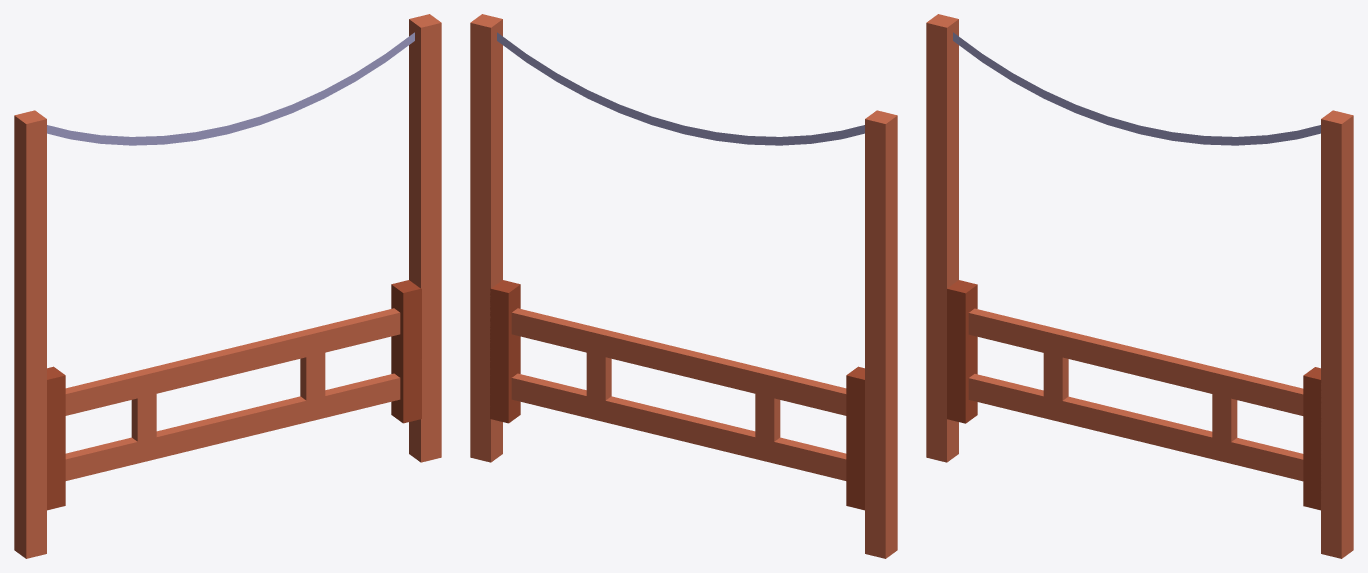
Rendered from gate.fbx.
3 renders of one model, left to right at view 1: azimuth 30°, elevation 25°; view 2: azimuth 150°, elevation 25°; view 3: azimuth 330°, elevation 25°, orthographic.
Parts seen in each view (by area): view 1: mergedBlocks; view 2: mergedBlocks; view 3: mergedBlocks.
Boxes of the visible parts, x1=… form: mergedBlocks: x1=14, y1=14, x2=441, y2=558; mergedBlocks: x1=470, y1=14, x2=897, y2=558; mergedBlocks: x1=926, y1=14, x2=1353, y2=558.
Size of the model in its own units: 10 by 10 by 0.5.
